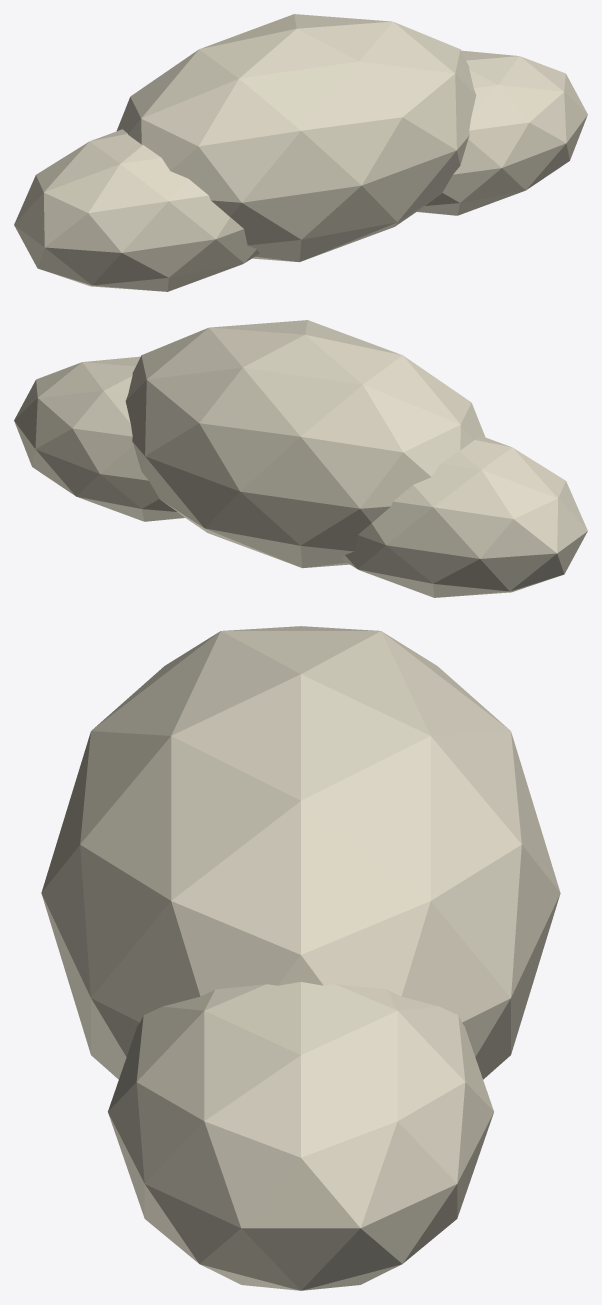
The model's file is cloud.glb.
3 renders of one model, top to bottom at view 1: azimuth 30°, elevation 25°; view 2: azimuth 150°, elevation 25°; view 3: azimuth 270°, elevation 25°, orthographic. The views are drawn at different scales.
Visible parts, largest first — view 1: Puff.001, Puff, Puff.002; view 2: Puff.001, Puff, Puff.002; view 3: Puff.001, Puff.002.
Boxes of the visible parts, x1,y1,x2,y2 form: Puff.001: (116,14,476,262); Puff: (14,129,259,291); Puff.002: (417,50,587,215); Puff.001: (125,320,485,568); Puff: (342,435,587,597); Puff.002: (14,356,184,521); Puff.001: (41,626,560,1079); Puff.002: (108,982,493,1290).
Size of the model in its own units: 2.08 by 0.8 by 0.86.
